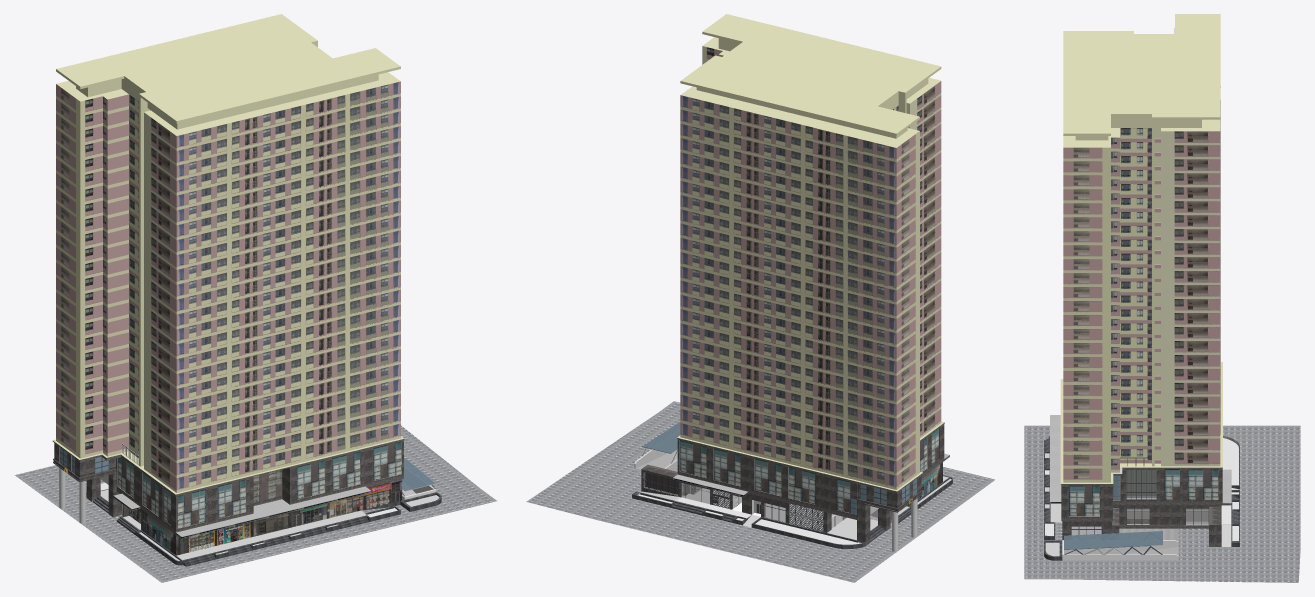
The picture shows the model from 3 angles, left to right: view 1: azimuth 30°, elevation 25°; view 2: azimuth 150°, elevation 25°; view 3: azimuth 270°, elevation 25°; orthographic projection. The views are drawn at different scales.
Visible parts, largest first — view 1: _(Loose Entity), image_2, image_283, image_122, image_75, image_112, image_113, image_256, image_258, image_333, image_337, image_80 (+45 smaller); view 2: _(Loose Entity), image_299, image_12, image_128, image_302, image_150, image_197, image_118, image_170, image_191, image_143, image_254 (+41 smaller); view 3: _(Loose Entity), image_272, image_339, image_133, image_200, image_271, image_3, image_310, image_311, image_38, image_39, image_53 (+64 smaller).
Boxes of the visible parts, x1,y1,x2,y2 form: _(Loose Entity): (14,14,496,582); image_2: (176,479,402,555); image_283: (176,354,318,403); image_122: (176,235,318,284); image_75: (176,116,318,165); image_112: (176,324,318,373); image_113: (176,413,318,462); image_256: (176,146,318,195); image_258: (176,384,318,433); image_333: (176,339,318,388); image_337: (176,443,318,492); image_80: (176,205,318,254); _(Loose Entity): (526,14,994,582); image_299: (680,280,817,328); image_12: (680,138,817,185); image_128: (680,380,817,427); image_302: (680,223,817,271); image_150: (680,166,817,214); image_197: (680,109,817,157); image_118: (680,238,817,285); image_170: (680,337,817,385); image_191: (680,323,817,370); image_143: (680,394,817,442); image_254: (680,95,817,142); _(Loose Entity): (1024,14,1300,582); image_272: (1188,469,1218,500); image_339: (1069,485,1099,516); image_133: (1161,410,1220,424); image_200: (1161,396,1220,410); image_271: (1161,382,1220,396); image_3: (1161,159,1220,173); image_310: (1161,368,1220,382); image_311: (1161,438,1220,452); image_38: (1161,354,1220,368); image_39: (1161,131,1220,145); image_53: (1161,145,1220,159).
Size of the model in its own units: 73.36 by 91.43 by 53.86.
46 materials, 34 textured.
